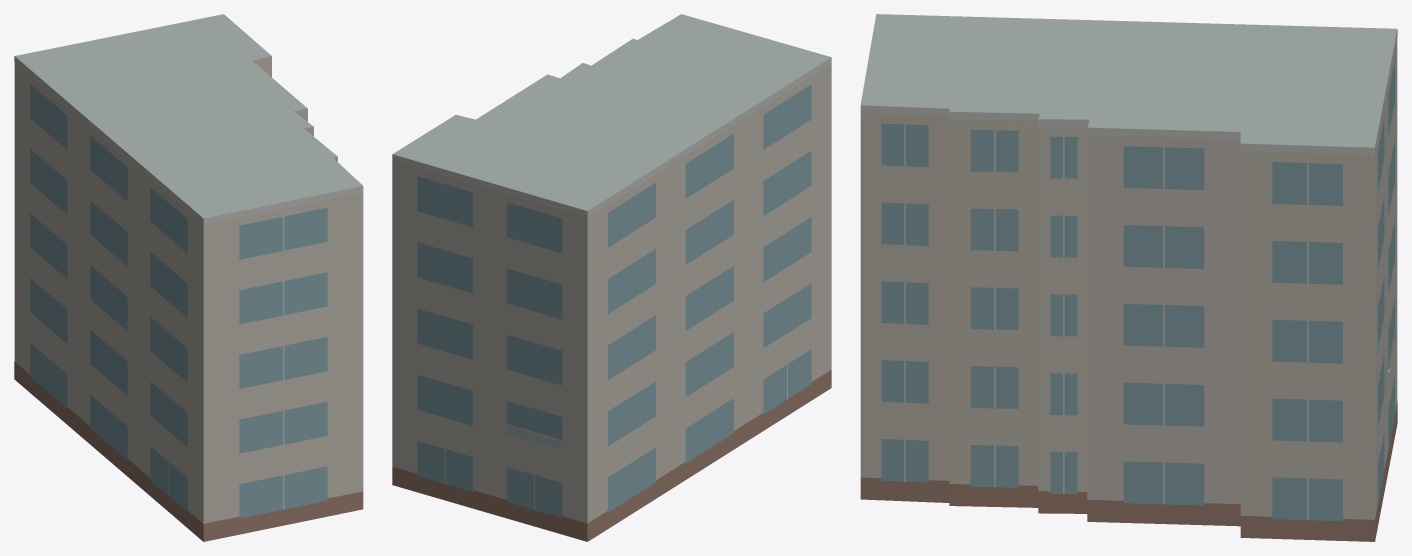
Rendered from survey-upis-32637738.glb.
The picture shows the model from 3 angles, left to right: view 1: azimuth 30°, elevation 25°; view 2: azimuth 150°, elevation 25°; view 3: azimuth 270°, elevation 25°; orthographic projection. The views are drawn at different scales.
Visible parts, largest first — view 1: survey-upis-32637738.tmp; view 2: survey-upis-32637738.tmp; view 3: survey-upis-32637738.tmp.
Boxes of the visible parts, bbox=[...] form: survey-upis-32637738.tmp: bbox=[14, 14, 363, 541]; survey-upis-32637738.tmp: bbox=[392, 14, 831, 541]; survey-upis-32637738.tmp: bbox=[860, 14, 1397, 541].
Size of the model in its own units: 9.46 by 13 by 16.06.
